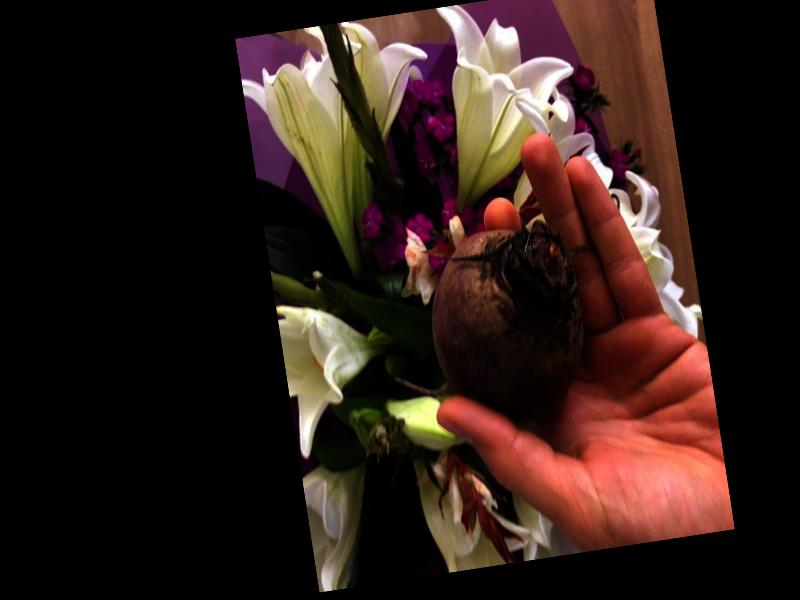Beet: (372, 217, 597, 440)
